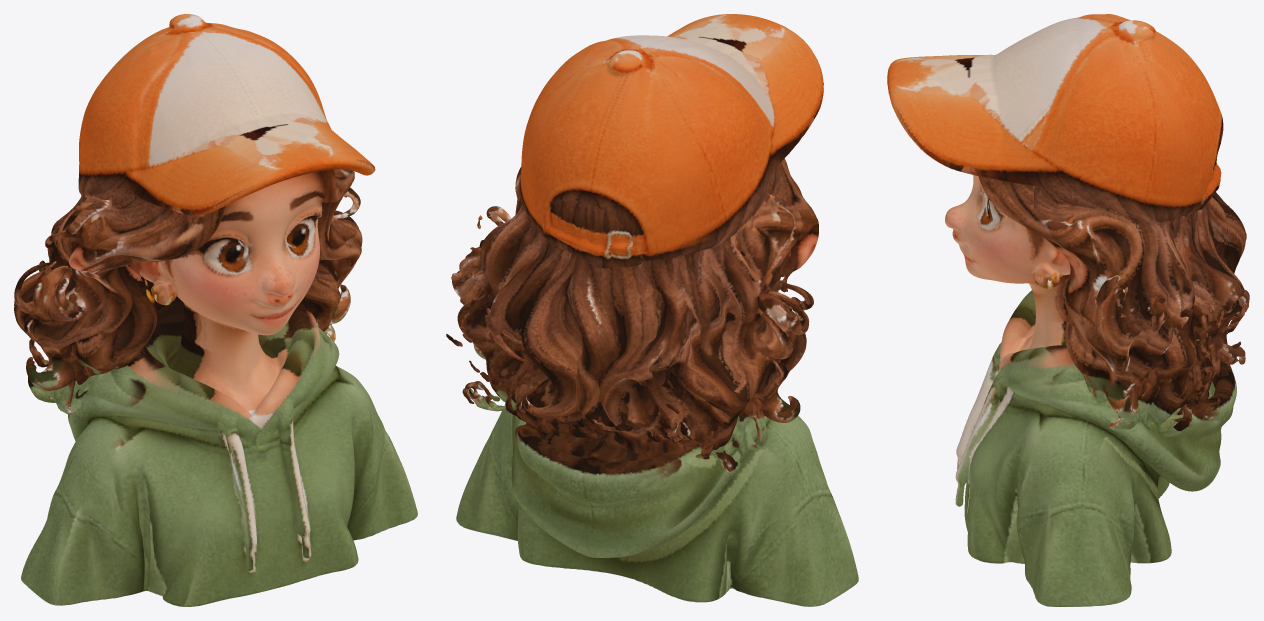
The model's file is orange-girl-reference-colors.glb.
The picture shows the model from 3 angles, left to right: view 1: azimuth 30°, elevation 25°; view 2: azimuth 150°, elevation 25°; view 3: azimuth 270°, elevation 25°; orthographic projection. The views are drawn at different scales.
Visible parts, largest first — view 1: world; view 2: world; view 3: world.
Boxes of the visible parts, left/top/right/bottom form: world: left=14, top=14, right=417, bottom=606; world: left=446, top=14, right=858, bottom=606; world: left=887, top=14, right=1249, bottom=606.
Bounding box in the file's own units: 1.51 × 1.99 × 1.31.
